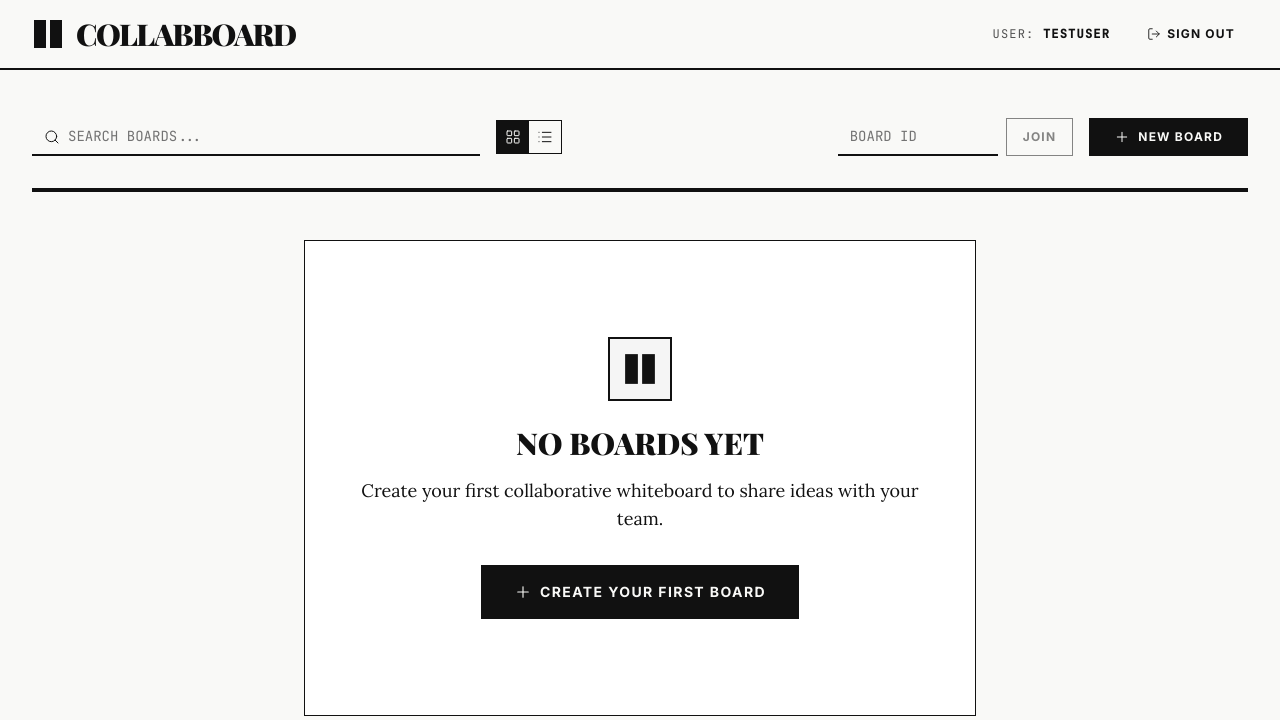
HomePage integration › shows 'board not found' toast when joinBoard returns not_found
The image size is (1280, 720).
Expected: the heading "NO BOARDS YET" is shown, top-left (516, 423), bottom-right (764, 463)
Type "bad-id" into the field with placeholder "BOARD ID".
click(918, 137); type("bad-id")  # box top-left (838, 118), bottom-right (998, 156)
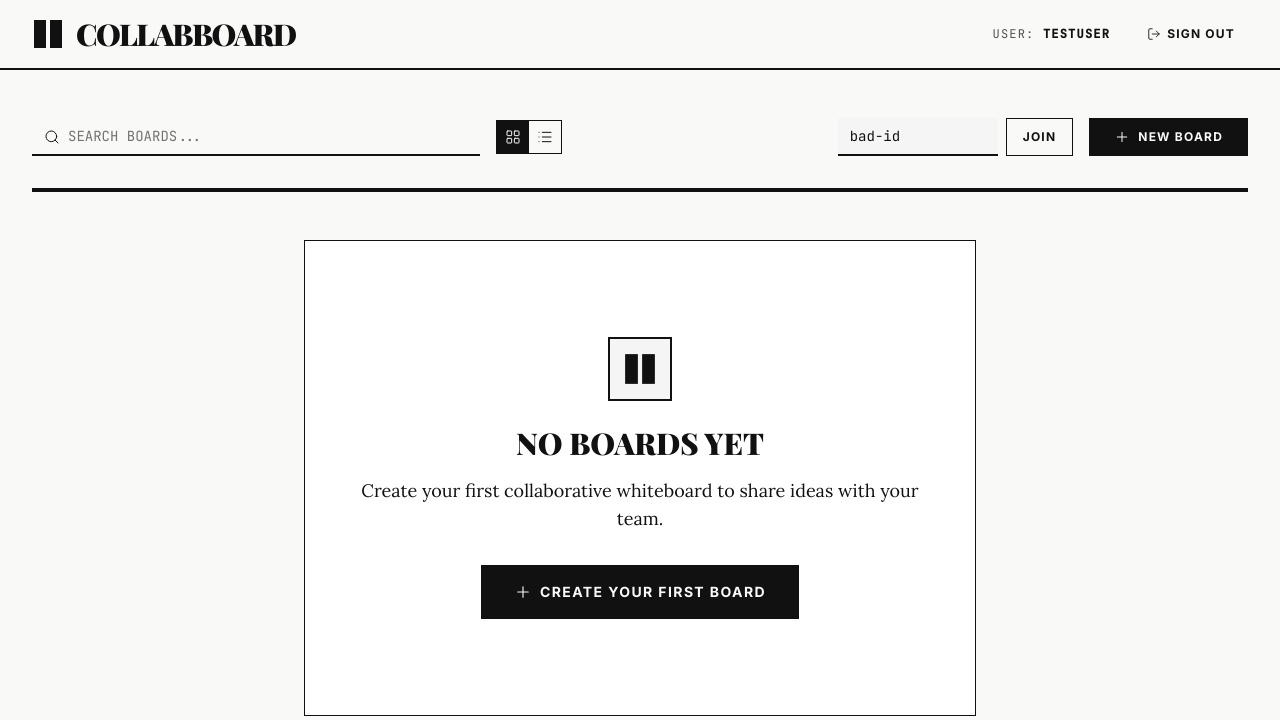
Click the button "Join".
click(1040, 137)  # box top-left (1006, 118), bottom-right (1073, 156)
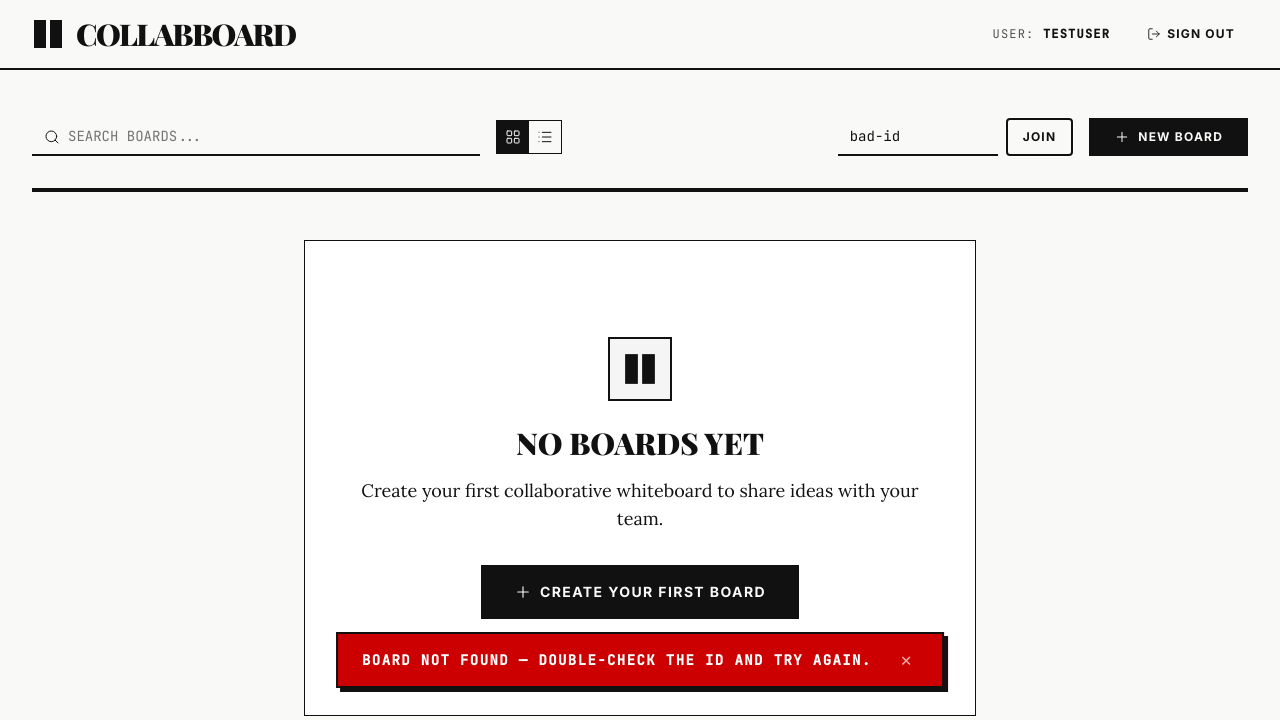
Now the text "Board not found — double-check the ID and try again." is shown, box top-left (362, 650), bottom-right (872, 670)
